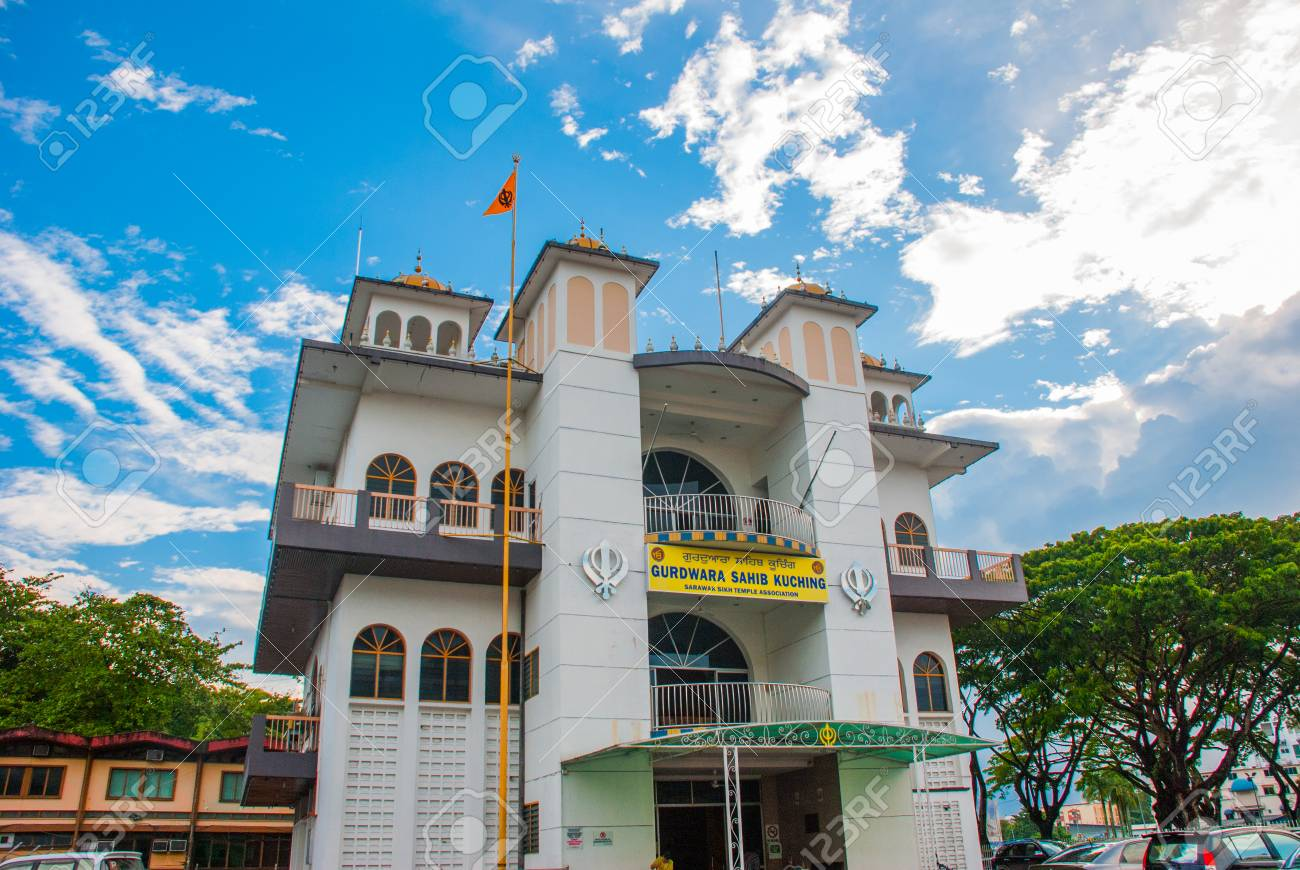Gurdwara: (295, 173, 960, 845)
